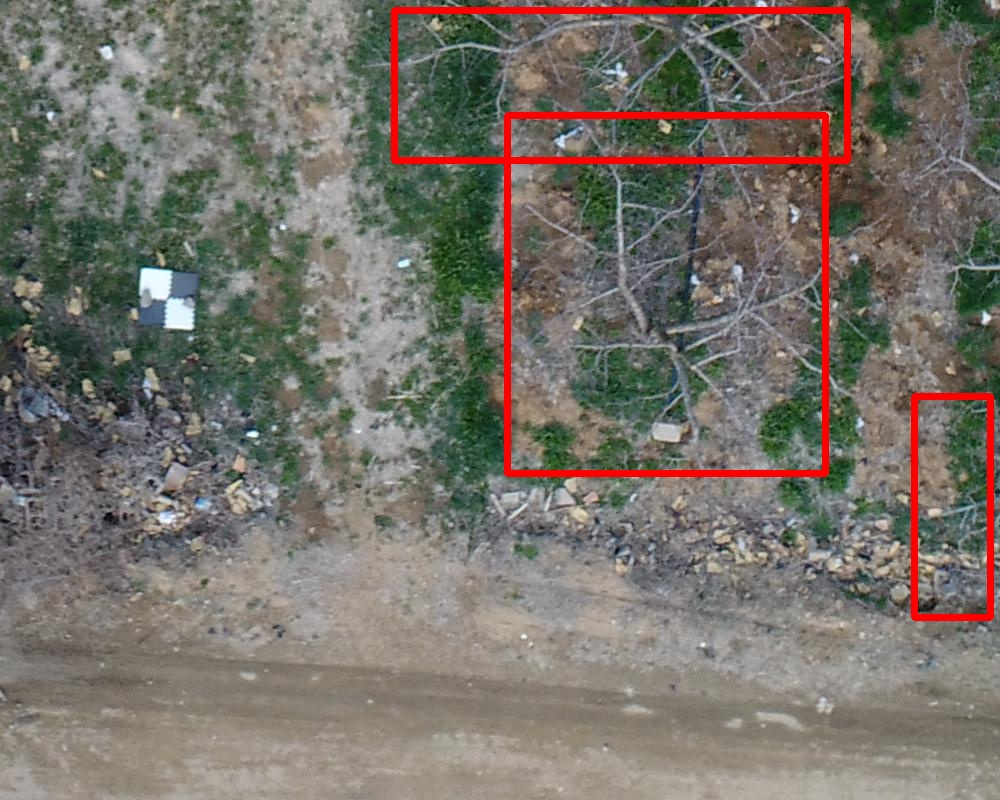apple: (507, 115, 825, 473), (394, 10, 847, 160), (914, 396, 990, 617)
